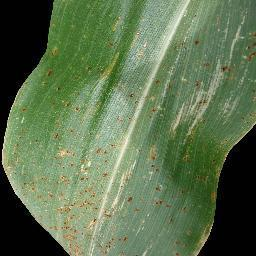Corn_Common_Rust: (7, 111, 234, 256), (178, 75, 224, 111), (83, 49, 119, 76), (129, 23, 149, 60), (224, 16, 242, 57), (242, 29, 256, 66), (202, 58, 231, 74), (12, 85, 28, 113), (146, 94, 164, 112), (61, 97, 82, 112), (151, 78, 173, 92), (171, 36, 190, 52), (109, 13, 122, 35), (45, 45, 62, 57), (38, 68, 57, 78), (190, 38, 205, 49), (129, 91, 138, 102), (55, 87, 64, 94)
